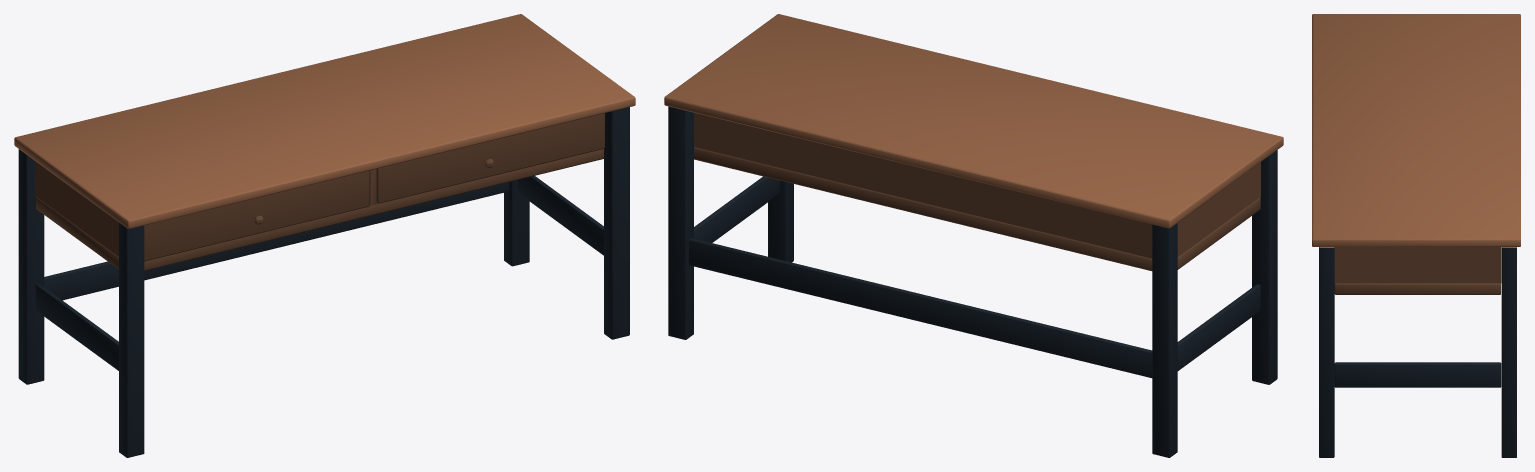
Rendered from desk.glb.
3 renders of one model, left to right at view 1: azimuth 30°, elevation 25°; view 2: azimuth 150°, elevation 25°; view 3: azimuth 270°, elevation 25°, orthographic. The views are drawn at different scales.
Visible parts, largest first — view 1: desktop, frame, wood; view 2: desktop, frame, wood; view 3: desktop, frame, wood.
Boxes of the visible parts, x1,y1,x2,y2 form: desktop: (14,14,635,228); frame: (18,107,629,457); wood: (35,113,604,270); desktop: (664,14,1283,228); frame: (668,106,1277,457); wood: (694,112,1260,270); desktop: (1312,14,1520,247); frame: (1319,247,1516,457); wood: (1334,247,1501,294).
Size of the model in its own units: 1.67 by 0.76 by 0.6544.
